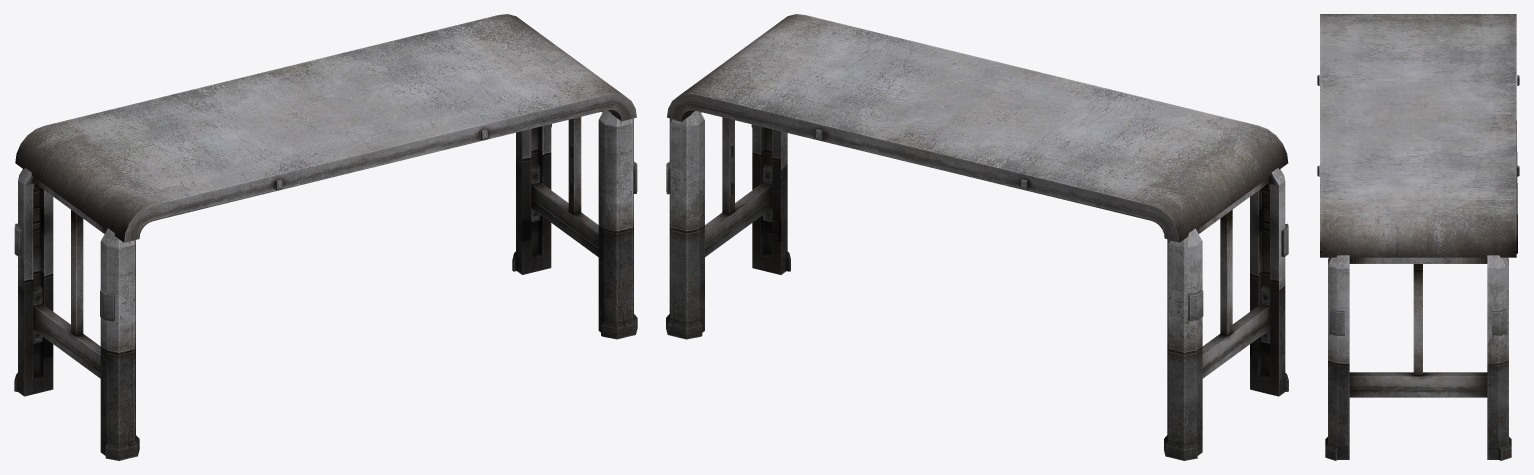
File: table_sturdy_large.dae
3 renders of one model, left to right at view 1: azimuth 30°, elevation 25°; view 2: azimuth 150°, elevation 25°; view 3: azimuth 270°, elevation 25°, orthographic. The views are drawn at different scales.
Visible parts, largest first — view 1: large; view 2: large; view 3: large.
Part boxes in pixels (<box>): large: <box>14,14,637,460</box>; large: <box>666,14,1288,460</box>; large: <box>1317,14,1519,460</box>.
Size of the model in its own units: 2.36 by 1.06 by 0.8571.
